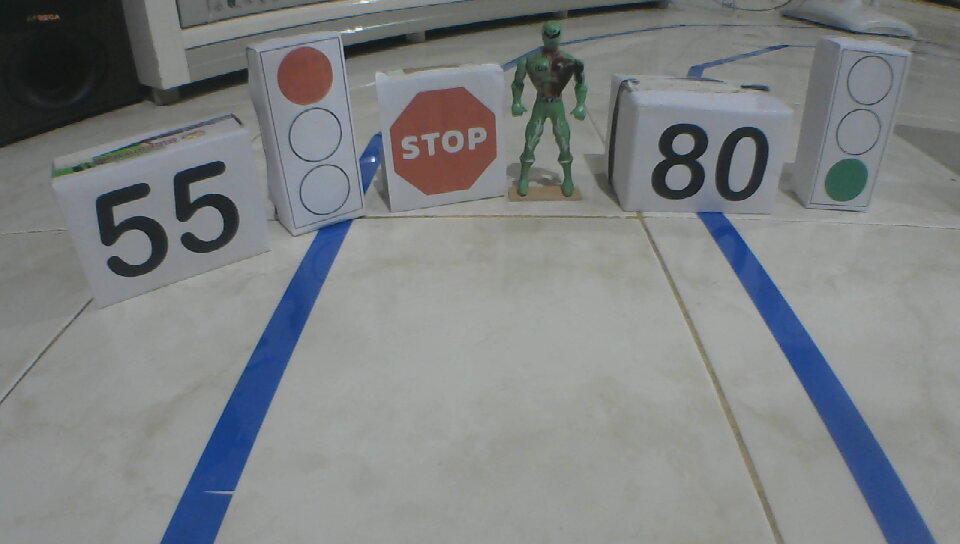Green Light: (822, 53, 896, 208)
Person: (510, 20, 593, 201)
Red Light: (272, 41, 352, 218)
Speed 55: (94, 159, 244, 281)
Speed 80: (647, 120, 771, 206)
Stop: (387, 84, 499, 199)
